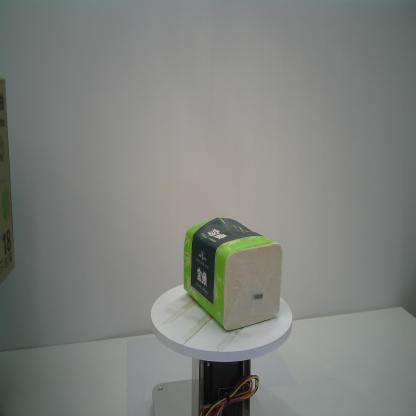Tissue: (182, 215, 284, 335)
